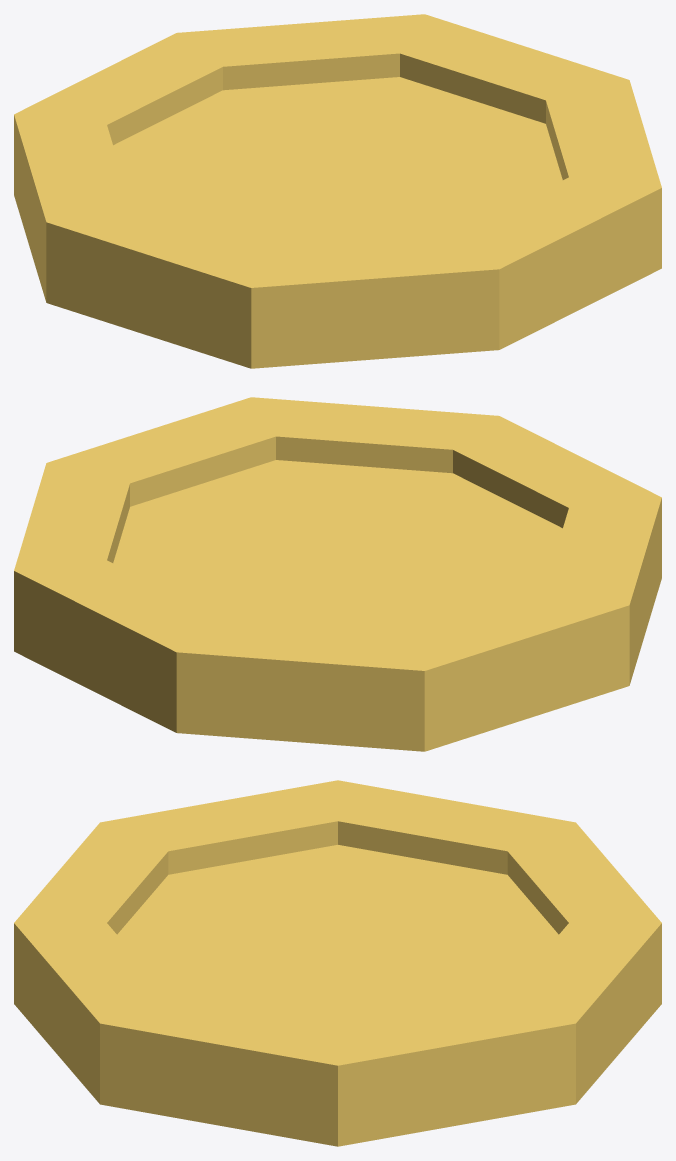
File: coin.gltf
3 views of the same model, one above another, from view 1: azimuth 30°, elevation 25°; view 2: azimuth 150°, elevation 25°; view 3: azimuth 270°, elevation 25° (orthographic).
Parts seen in each view (by area): view 1: Cube.002_Cube; view 2: Cube.002_Cube; view 3: Cube.002_Cube.
Boxes of the visible parts, bbox=[...] form: Cube.002_Cube: bbox=[14, 14, 661, 368]; Cube.002_Cube: bbox=[14, 397, 661, 751]; Cube.002_Cube: bbox=[14, 780, 661, 1146].
Bounding box in the file's own units: 0.2789 × 0.0369 × 0.2676.
Materials: 1 (1 with a texture image).
